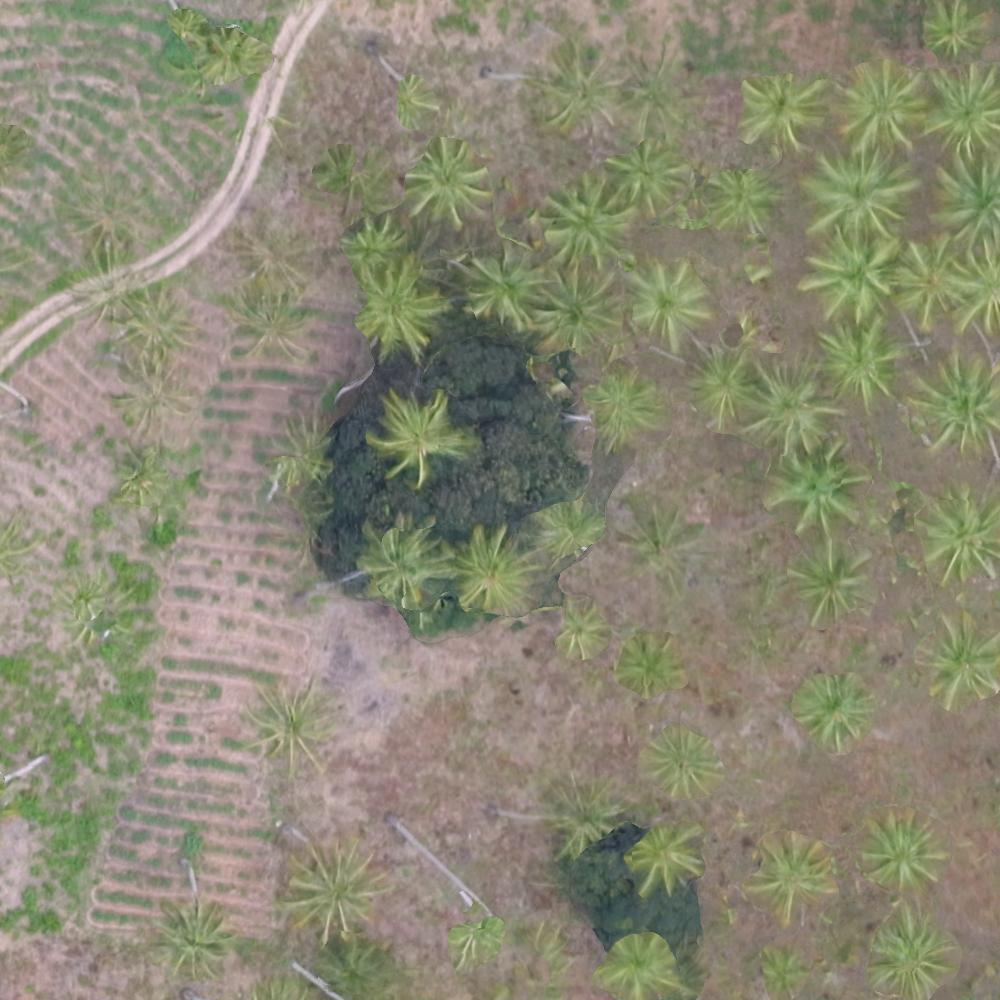Palm: (809, 144, 914, 240), (349, 256, 443, 352), (287, 840, 379, 934), (915, 489, 999, 589), (915, 355, 1000, 452), (372, 390, 462, 481), (404, 139, 494, 229), (360, 514, 447, 607), (802, 231, 897, 316), (744, 832, 833, 922), (771, 445, 865, 530), (862, 906, 951, 994), (750, 358, 835, 449), (737, 68, 828, 151), (544, 174, 630, 261), (535, 267, 622, 352), (527, 46, 614, 130), (916, 617, 1000, 702), (624, 263, 709, 347), (859, 810, 946, 892), (819, 318, 903, 401), (462, 246, 545, 328), (609, 144, 694, 223), (453, 529, 533, 612), (790, 544, 871, 625), (251, 685, 331, 767), (838, 63, 921, 142), (615, 54, 696, 133), (922, 64, 996, 150), (929, 158, 1000, 246), (153, 897, 231, 977), (794, 672, 877, 747), (891, 239, 965, 322), (585, 369, 664, 444), (683, 345, 755, 423), (702, 164, 779, 235), (598, 933, 680, 999), (629, 826, 704, 895), (644, 731, 718, 799), (321, 154, 392, 219), (921, 1, 984, 62), (342, 215, 408, 273), (616, 636, 684, 692), (550, 602, 611, 663), (540, 506, 599, 555)
